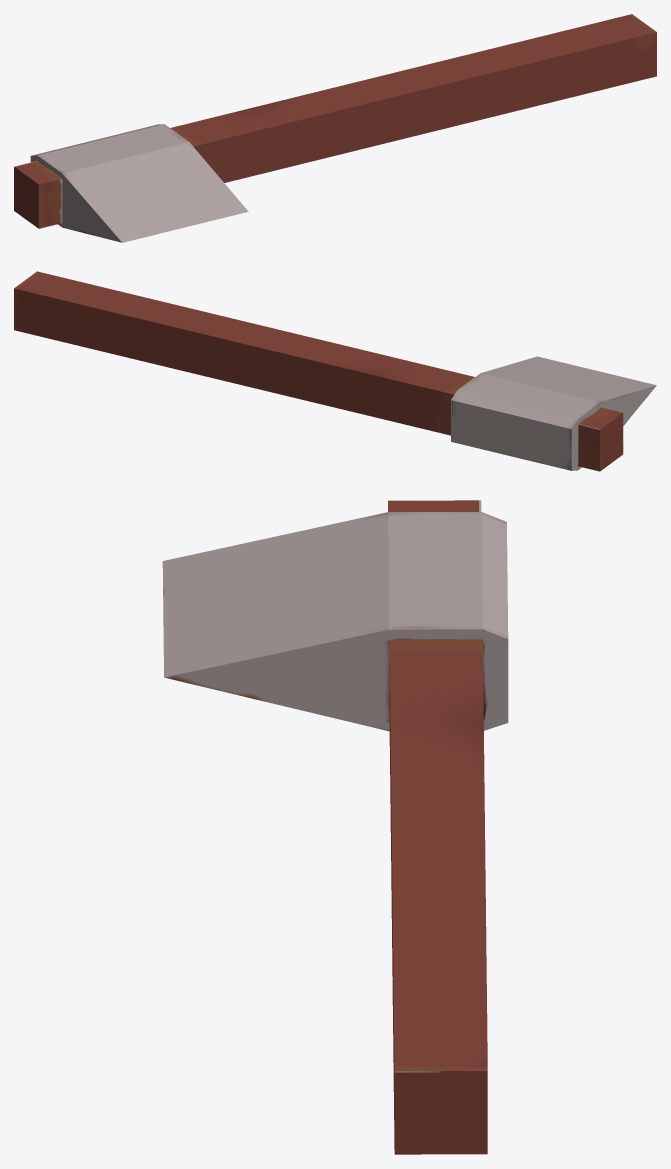
The model's file is Axe.dae.
The picture shows the model from 3 angles, top to bottom: view 1: azimuth 30°, elevation 25°; view 2: azimuth 150°, elevation 25°; view 3: azimuth 270°, elevation 25°; orthographic projection. The views are drawn at different scales.
Visible parts, largest first — view 1: Cube; view 2: Cube; view 3: Cube.
Part boxes in pixels (bbox=[...]): Cube: bbox=[14, 14, 656, 242]; Cube: bbox=[14, 271, 656, 471]; Cube: bbox=[162, 500, 508, 1154].
Bounding box in the file's own units: 0.8415 × 0.2154 × 0.0701.
